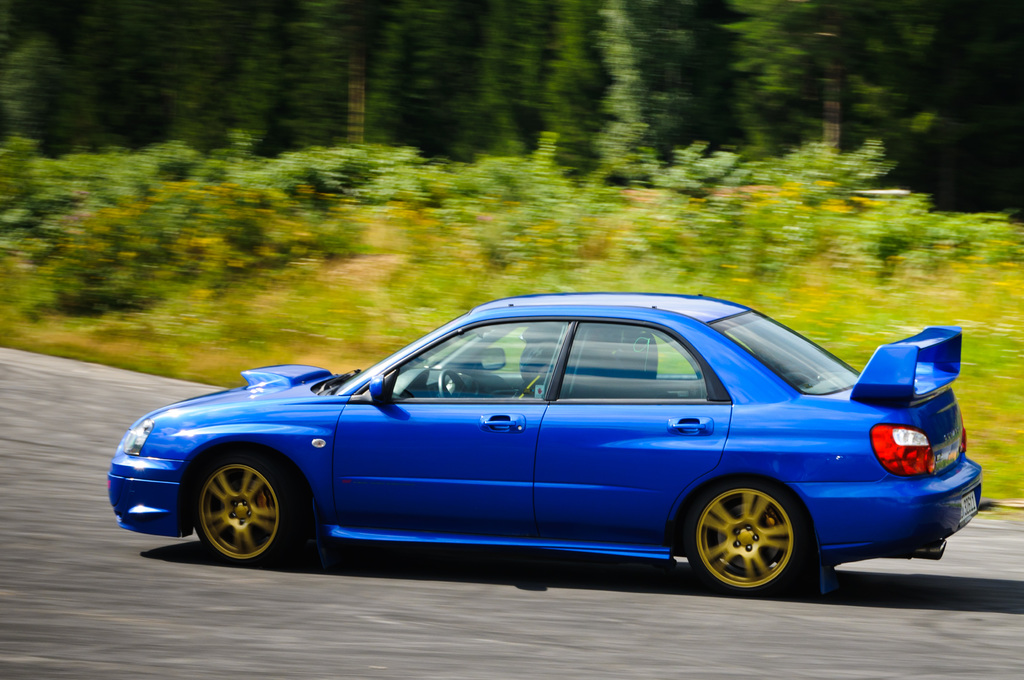car: (104, 283, 987, 589)
